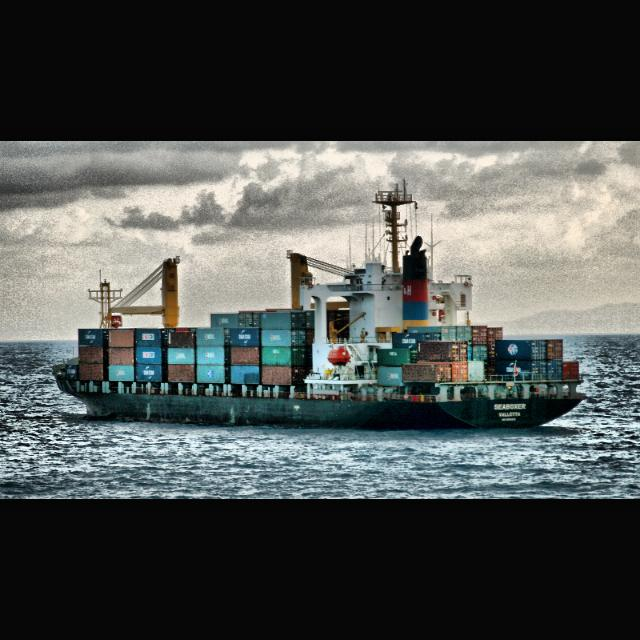container: (49, 178, 589, 432)
